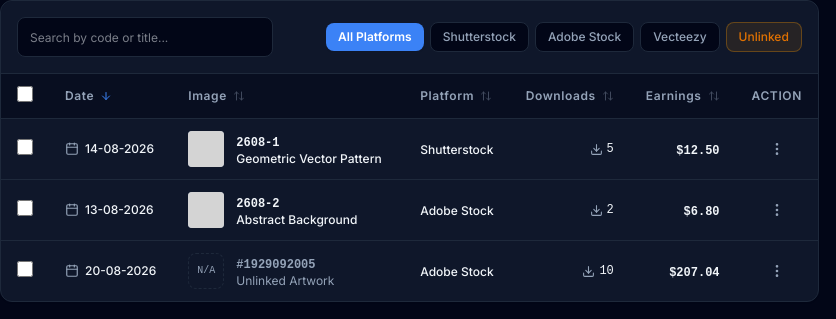
Test: Sales Components (UT-UI-SALES-01) › SalesTable › UT-UI-SALES-ACTION-MENU-01: opens dropdown and executes preview action when preview button is clicked
# Open menu
Click the button with test id "sales-row-menu-btn-sale-1" at coordinates (777, 149), box [763, 135, 791, 163]
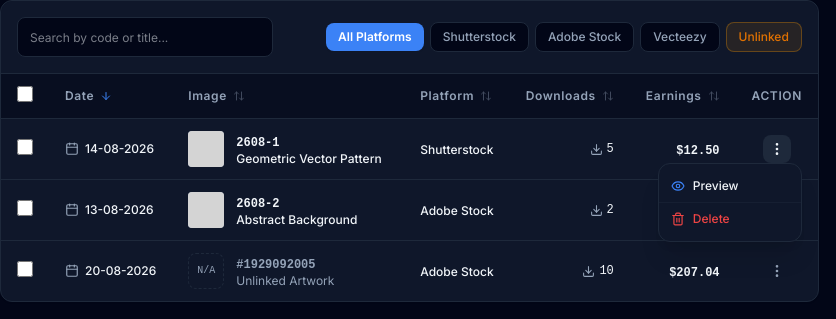
Check: the element with test id "sales-row-menu-dropdown-sale-1" is shown, box [658, 163, 802, 242]
# Click Preview
Click the button with test id "sales-row-preview-btn-sale-1" at coordinates (730, 186), box [659, 170, 801, 203]
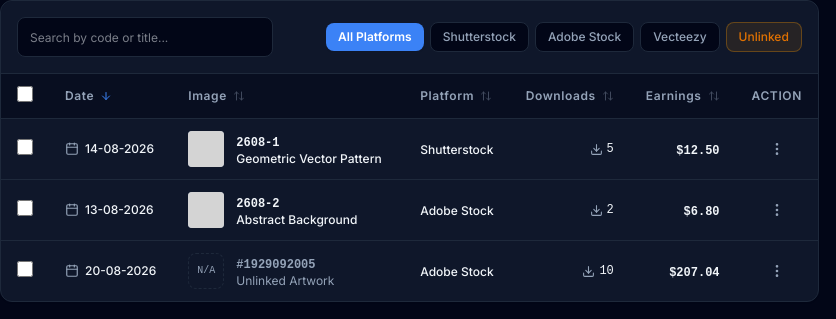
Check: the element with test id "sales-row-menu-dropdown-sale-1" is gone
